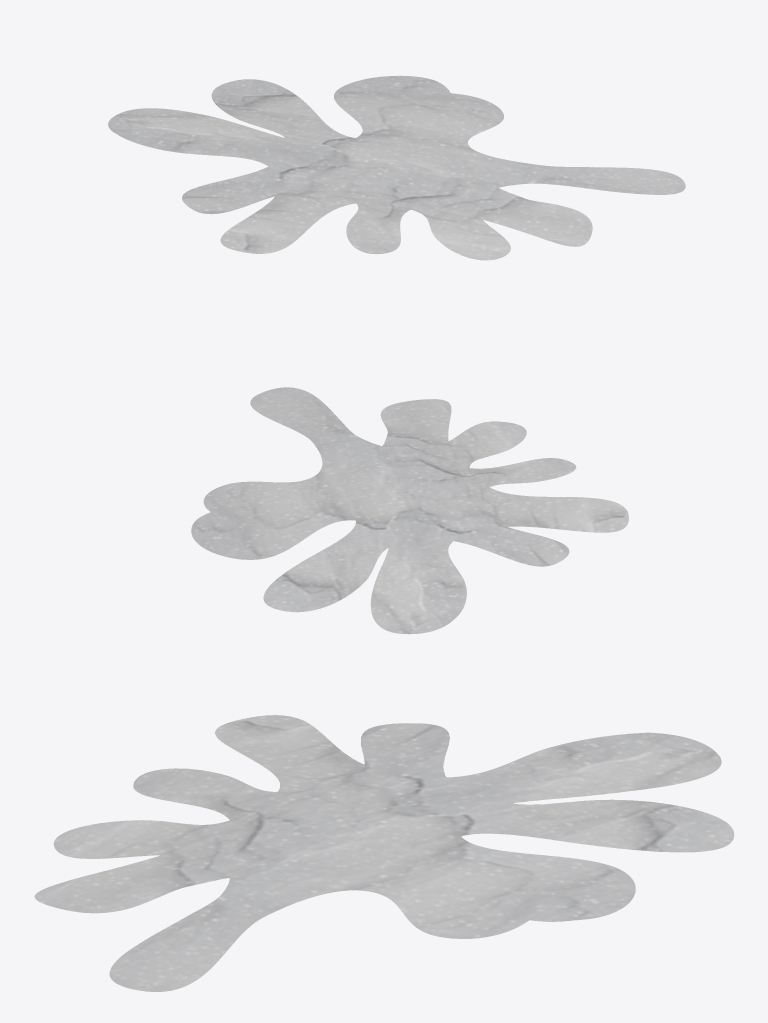
File: splat.glb
3 views of the same model, one above another, from view 1: azimuth 30°, elevation 25°; view 2: azimuth 150°, elevation 25°; view 3: azimuth 270°, elevation 25° (orthographic). The views are drawn at different scales.
Parts seen in each view (by area): view 1: splat; view 2: splat; view 3: splat.
Boxes of the visible parts, x1,y1,x2,y2 form: splat: (108,75,685,260); splat: (191,387,628,634); splat: (34,715,734,991).
Bounding box in the file's own units: 1 × 0.0302 × 1.
1 material, 1 textured.
